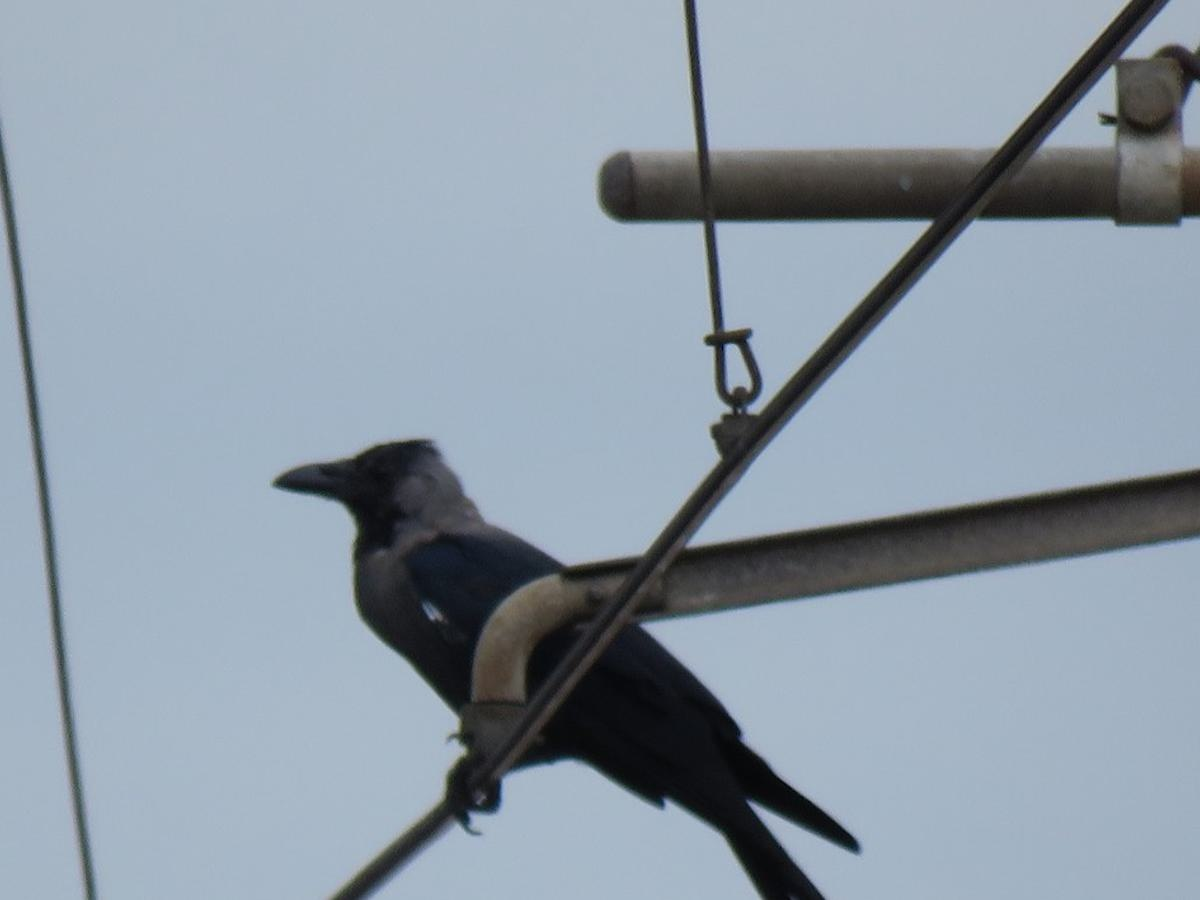crow: (272, 427, 890, 900)
